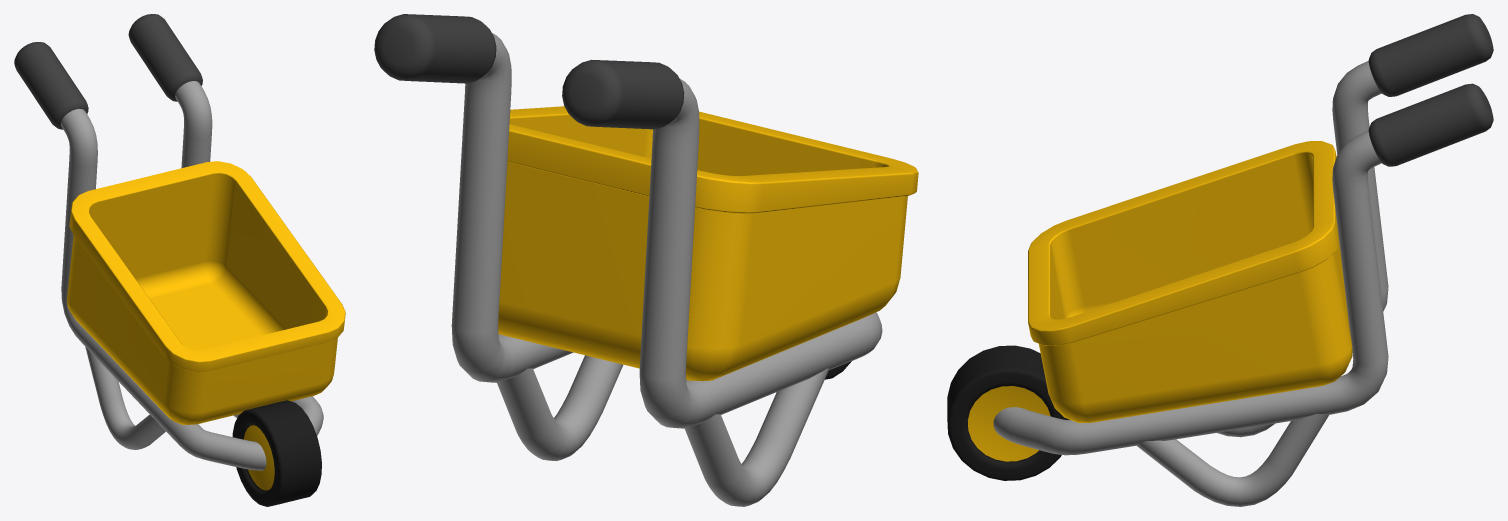
Rendered from Farm_19_Wheelbarrow_1.glb.
3 views of the same model, side by side, from view 1: azimuth 30°, elevation 25°; view 2: azimuth 150°, elevation 25°; view 3: azimuth 270°, elevation 25° (orthographic). The views are drawn at different scales.
Parts seen in each view (by area): view 1: Farm_19_Wheelbarrow_1; view 2: Farm_19_Wheelbarrow_1; view 3: Farm_19_Wheelbarrow_1.
Boxes of the visible parts, x1,y1,x2,y2 form: Farm_19_Wheelbarrow_1: (14,14,345,506); Farm_19_Wheelbarrow_1: (374,14,918,506); Farm_19_Wheelbarrow_1: (947,14,1493,506).
Size of the model in its own units: 0.6517 by 1.18 by 1.4.
Materials: 1 (1 with a texture image).
